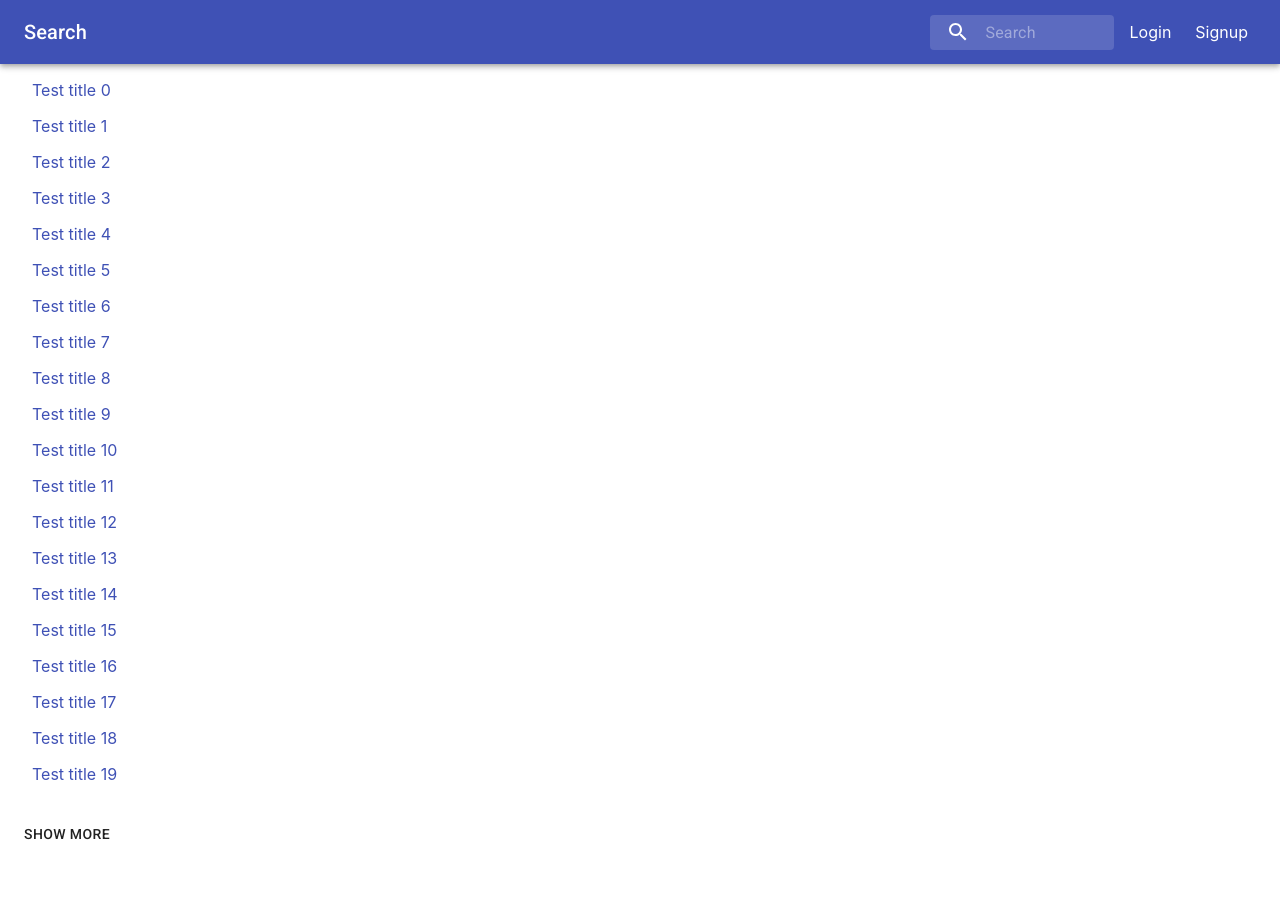
Scenario: hides and displays the show more button when recipes are filtered by search
In the field with placeholder "Search": (1022, 32) top-left (930, 14), bottom-right (1114, 50), type "1"
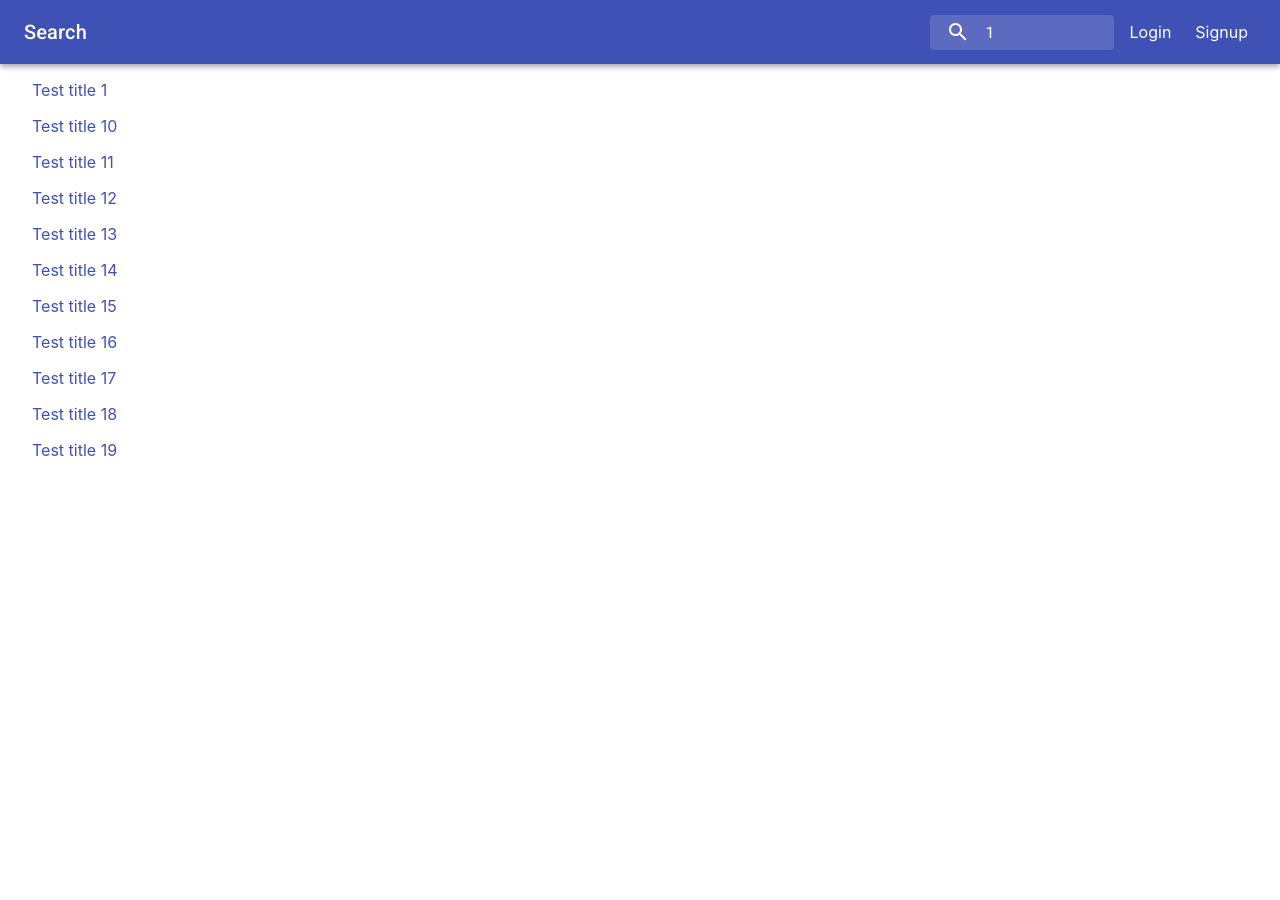
Expected: the button "Show more" is gone
Clear the field with placeholder "Search": (1022, 32) top-left (930, 14), bottom-right (1114, 50)
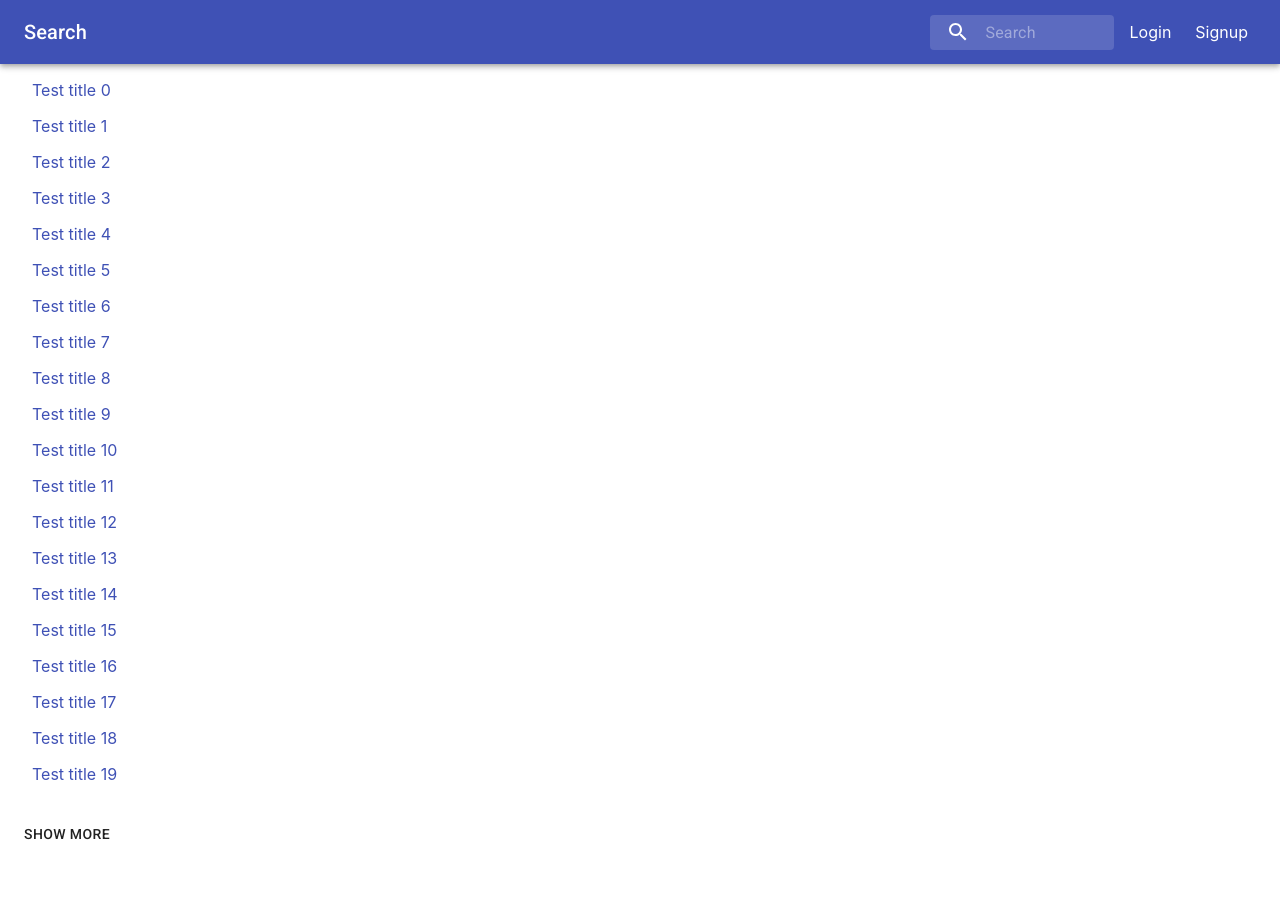
Expected: the text "Show more" is shown, top-left (24, 822), bottom-right (110, 846)
